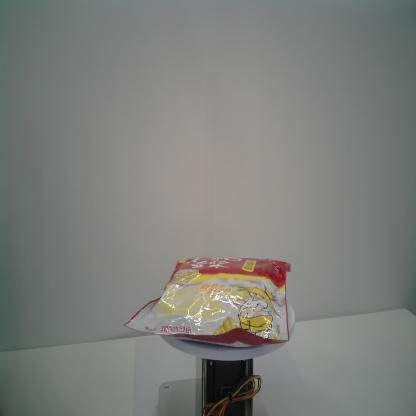Instant Drink: (121, 253, 292, 353)
